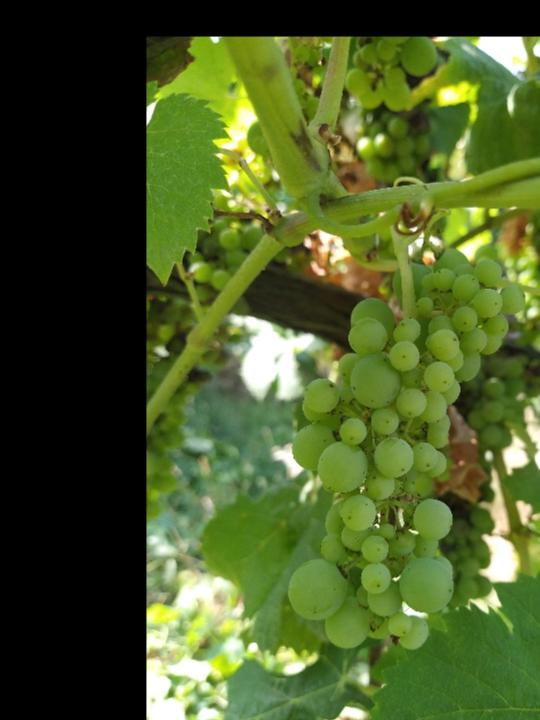grape: (286, 244, 528, 654)
